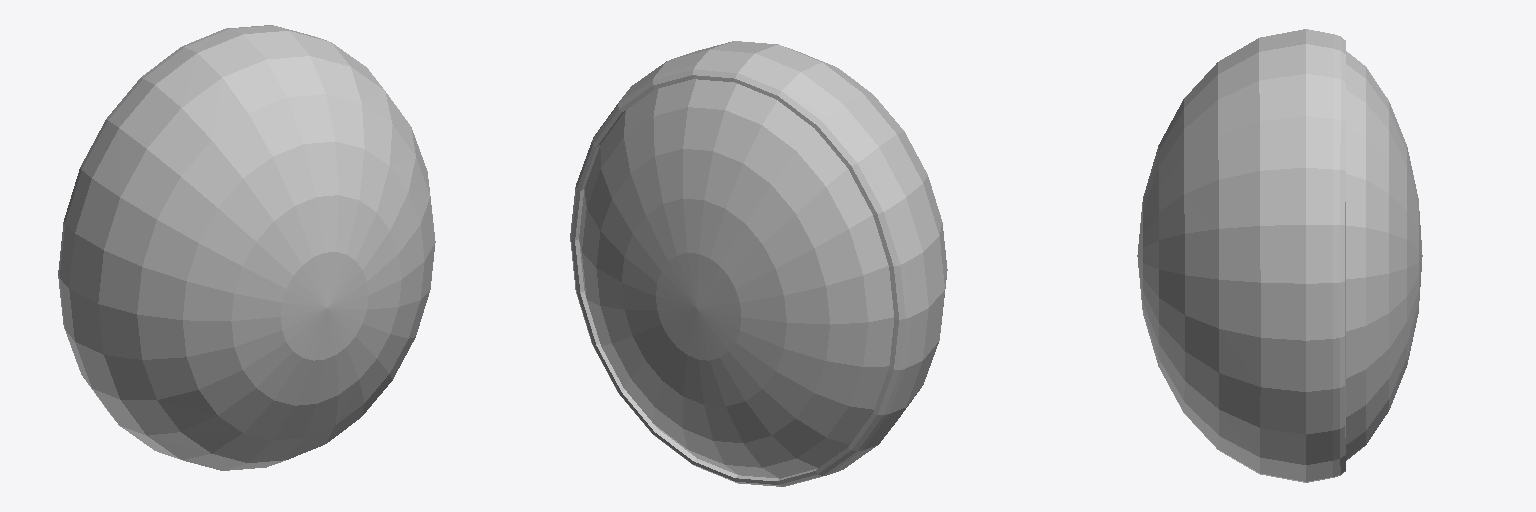
Rendered from stapler_light_front_r.obj.
3 views of the same model, side by side, from view 1: azimuth 30°, elevation 25°; view 2: azimuth 150°, elevation 25°; view 3: azimuth 270°, elevation 25° (orthographic).
Visible parts, largest first — view 1: Lampe_l_Sphere.002; view 2: Lampe_l_Sphere.002; view 3: Lampe_l_Sphere.002.
Boxes of the visible parts, x1,y1,x2,y2 form: Lampe_l_Sphere.002: [58, 25, 435, 470]; Lampe_l_Sphere.002: [570, 41, 947, 486]; Lampe_l_Sphere.002: [1137, 29, 1422, 482].
Size of the model in its own units: 0.5476 by 0.6388 by 0.3891.